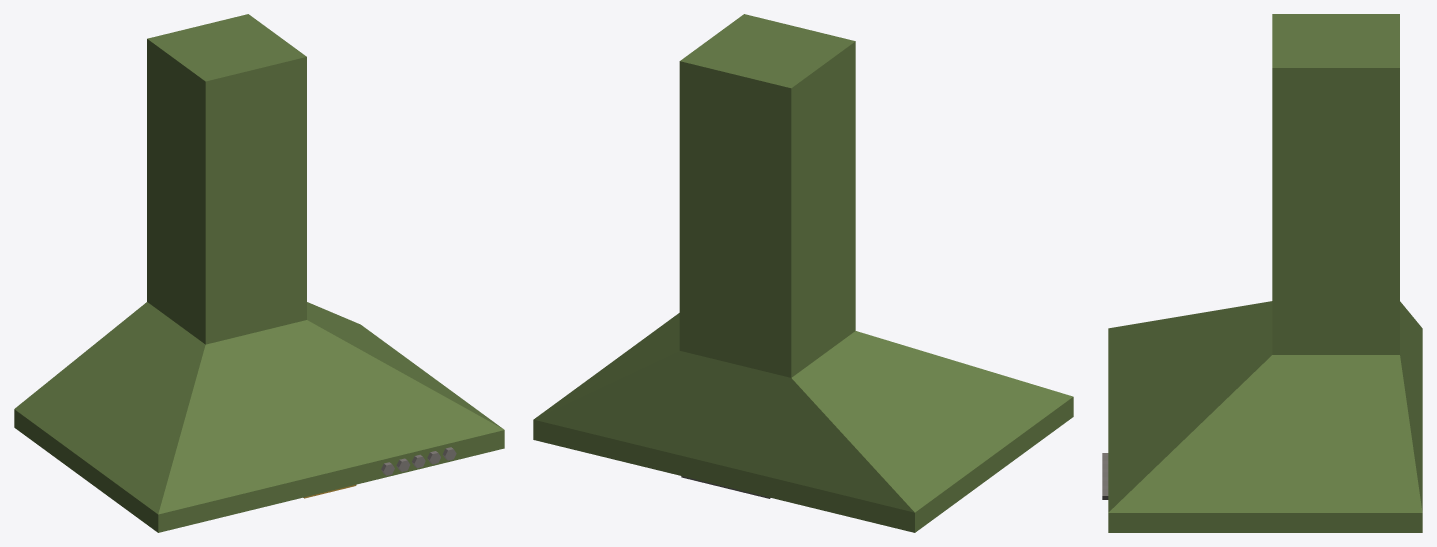
The model's file is kitchen_hood_01_B.gltf.
3 views of the same model, side by side, from view 1: azimuth 30°, elevation 25°; view 2: azimuth 150°, elevation 25°; view 3: azimuth 270°, elevation 25° (orthographic). The views are drawn at different scales.
Parts seen in each view (by area): view 1: kitchen_hood_01_B; view 2: kitchen_hood_01_B; view 3: kitchen_hood_01_B.
Boxes of the visible parts, x1,y1,x2,y2 form: kitchen_hood_01_B: (14,14,504,532); kitchen_hood_01_B: (533,14,1073,532); kitchen_hood_01_B: (1108,14,1422,532).
Bounding box in the file's own units: 0.8323 × 0.8482 × 0.6102.
1 material, 1 textured.
